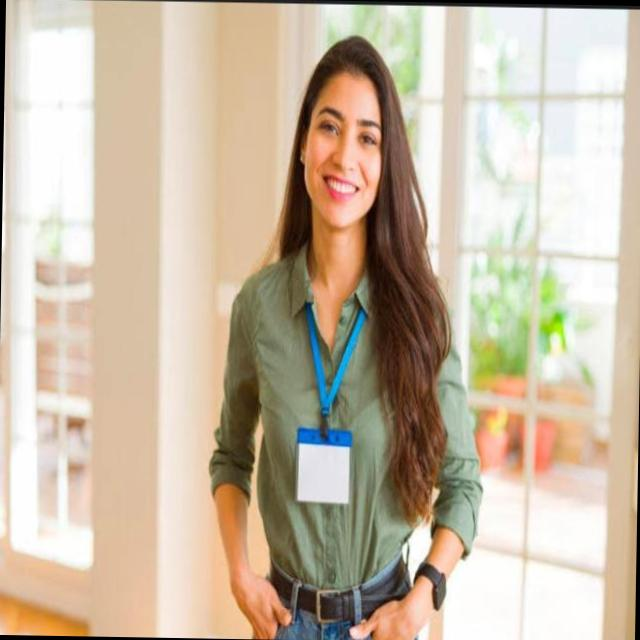id_card: (290, 269, 360, 502)
